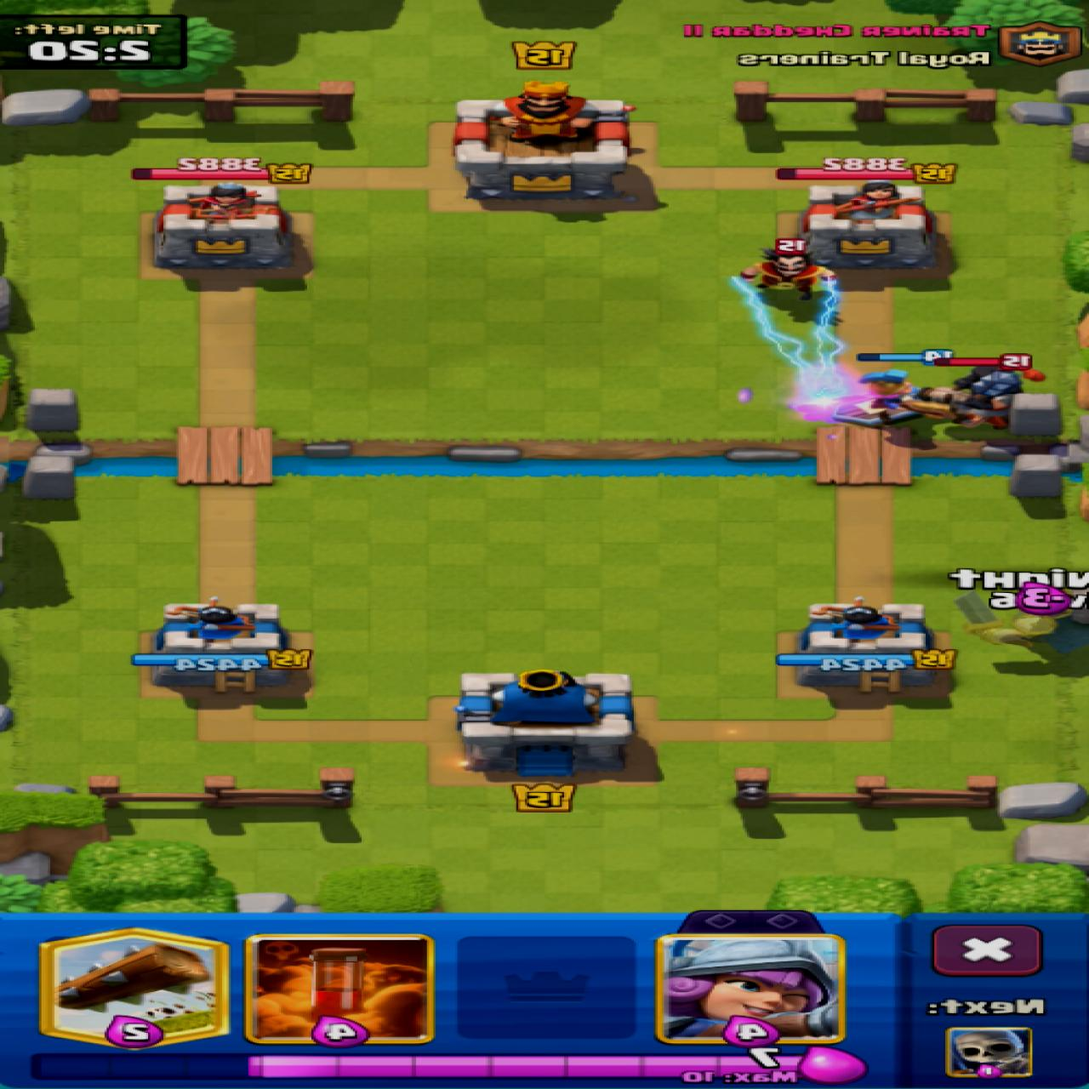Enemy-DarkPrince: (910, 353, 1043, 426)
Enemy-ElectroWizard: (745, 240, 836, 299)
Enemy-KingTower: (455, 84, 629, 201)
Enemy-PrincessTower: (155, 183, 298, 278), (788, 181, 937, 268)
